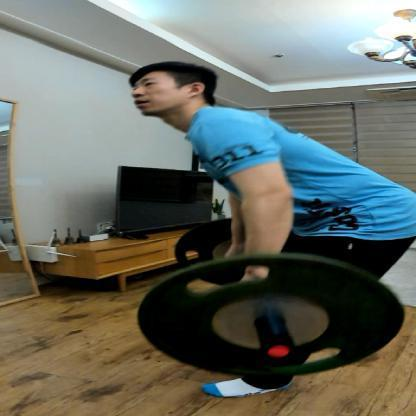barbell: (137, 216, 407, 384)
